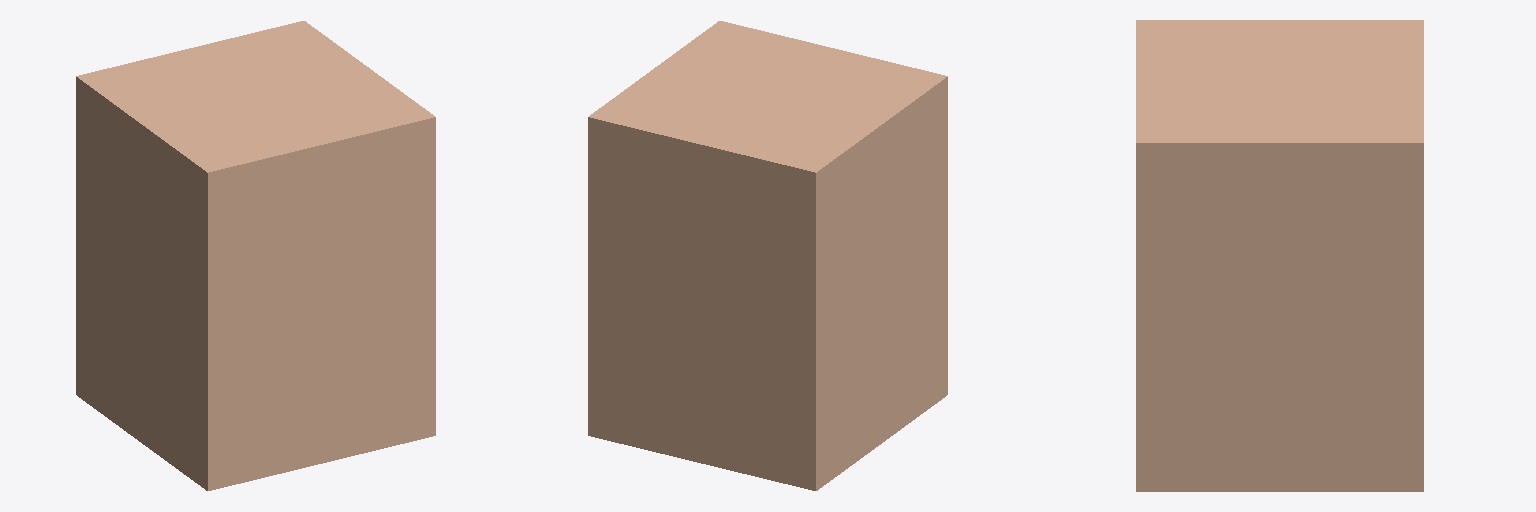
URDF robot description (torso):
<?xml version="1.0" ?>
<robot name="torso">
  <dynamics damping="1.0" />
  <contact>
    <restitution value="0.01"/>
    <lateral_friction value="0.5"/>
    <rolling_friction value="0.5"/>
    <contact_cfm value="0.0"/>
    <contact_erp value="1.0"/>
  </contact>
  <material name="peach">
    <color rgba="0.9 0.75 0.65 1"/>
  </material>
  <link name="world"/>
  <joint name="robot_to_world" type="fixed">
    <parent link="world"/>
    <child link="torso"/>
    <!--origin xyz="0 0 0" rpy="0.5235987756 0 -1.5707963268"/-->
    <origin xyz="1.5 -1.5 0" rpy="0 0 0"/>
  </joint>
  <link name="torso">
    <inertial>
      <origin rpy="0 0 0" xyz="0 0 0"/>
      <mass value="0.2"/>
      <inertia ixx="0.0001" ixy="0" ixz="0" iyy="0.0001" iyz="0" izz="0.0001"/>
    </inertial>
    <visual>
      <origin rpy="0 0 0" xyz="0 0 0"/>
      <geometry>
        <box size="3 3 4"/>
      </geometry>
      <material name="peach" />
    </visual>
    <collision>
      <origin rpy="0 0 0" xyz="0 0 0"/>
      <geometry>
        <box size="3 3 4"/>
      </geometry>
      <material name="peach" />
    </collision>
  </link>
</robot>

--- Render facts (derived) ---
Views: 3 orthographic renders of the robot side by side, from view 1: azimuth 30°, elevation 25°; view 2: azimuth 150°, elevation 25°; view 3: azimuth 270°, elevation 25°.
Model torso with 2 links and 1 joints (1 fixed), rooted at world, posed every joint at zero.
Visible links, largest first — view 1: torso; view 2: torso; view 3: torso.
Boxes of the visible links, <box> form: torso: <box>76,21,435,490</box>; torso: <box>588,21,947,490</box>; torso: <box>1136,20,1423,491</box>.
Bounding box of the posed robot: 3 × 3 × 4 m (x, y, z).
Geometry: primitives only (box / cylinder / sphere), no mesh files.